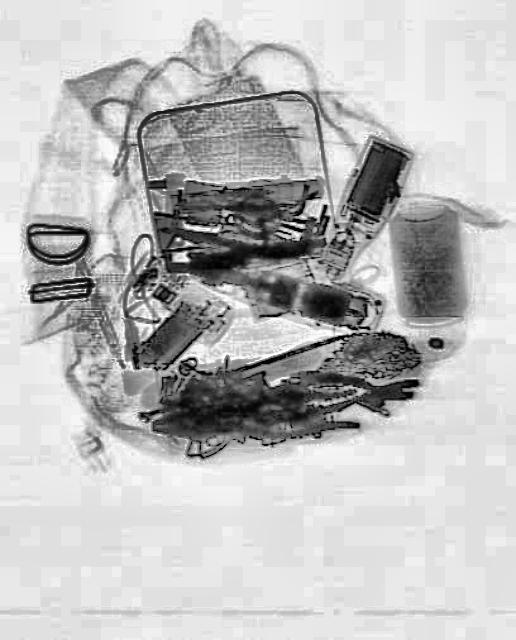Pliers: (294, 364, 422, 414)
